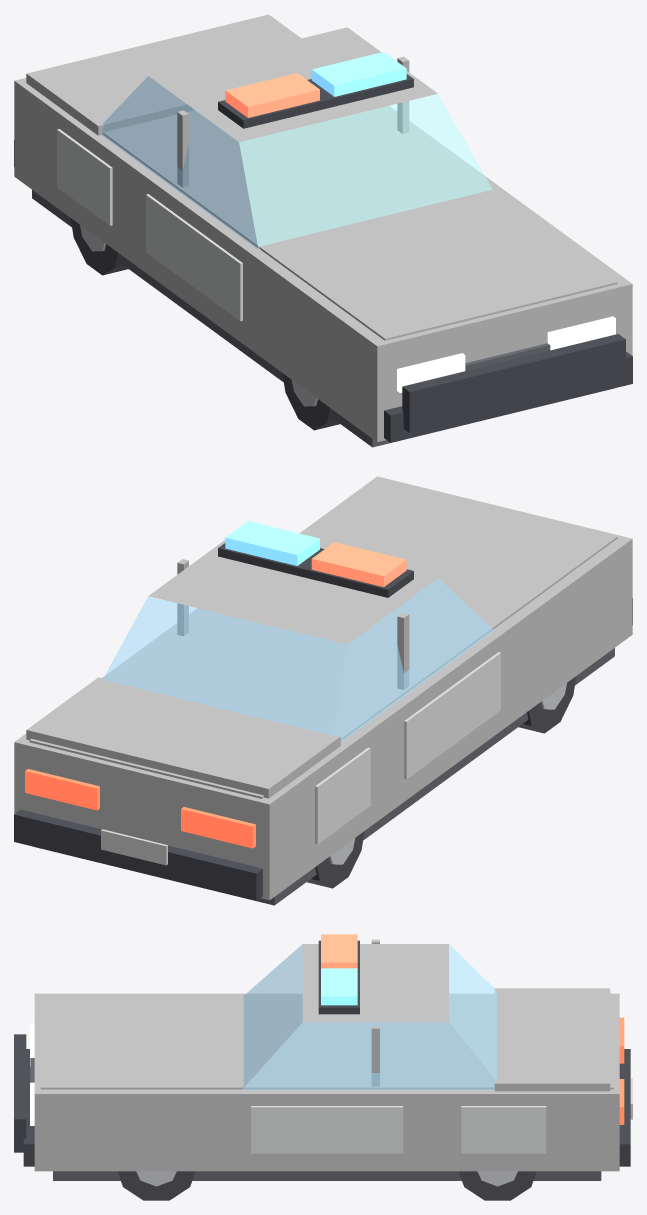
File: cop.glb
3 renders of one model, top to bottom at view 1: azimuth 30°, elevation 25°; view 2: azimuth 150°, elevation 25°; view 3: azimuth 270°, elevation 25°, orthographic. The views are drawn at different scales.
Visible parts, largest first — view 1: cop, wheel-fl, wheel-bl; view 2: cop, wheel-bl, wheel-fl; view 3: cop, wheel-br, wheel-fr.
Boxes of the visible parts, x1,y1,x2,y2 form: cop: (14, 14, 632, 447); wheel-fl: (282, 373, 339, 430); wheel-bl: (70, 218, 127, 275); cop: (14, 476, 632, 905); wheel-bl: (307, 831, 364, 888); wheel-fl: (518, 676, 576, 733); cop: (14, 934, 632, 1180); wheel-br: (458, 1171, 536, 1200); wheel-fr: (117, 1171, 195, 1200).
Bounding box in the file's own units: 1.99 × 1.69 × 5.08.
